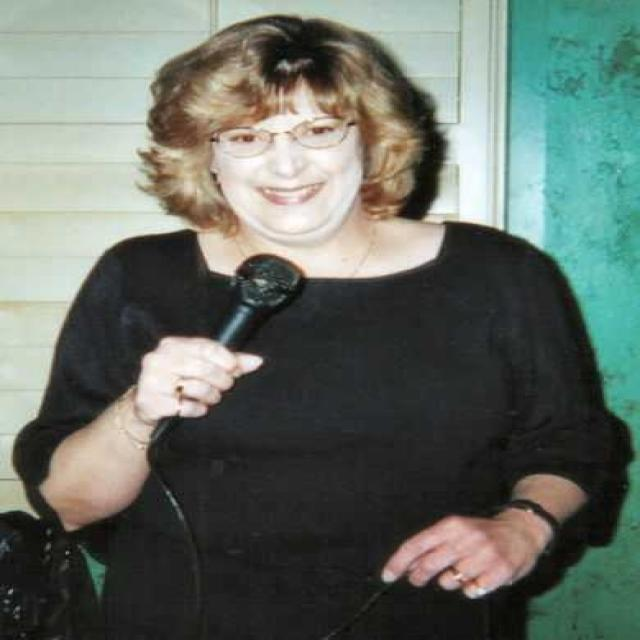microphone: (147, 252, 309, 446)
